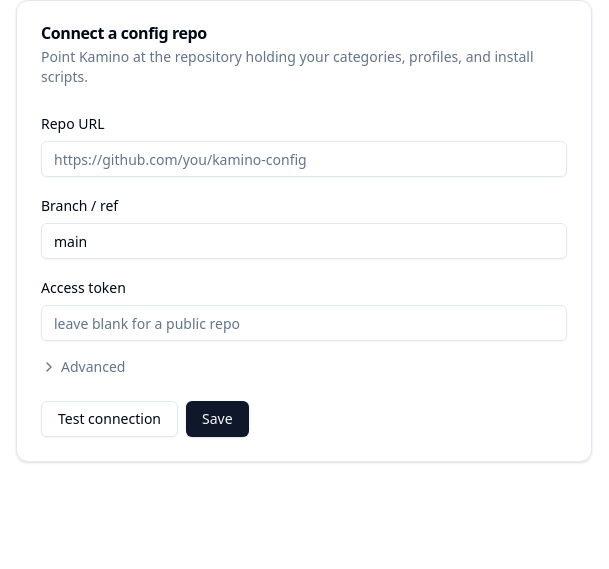
Test: Connect › renders a validation error's details inline
Type "https://github.com/t0mer/bad" into the field labelled "Repo URL" at (304, 159), box x1=41 y1=141 x2=567 y2=177
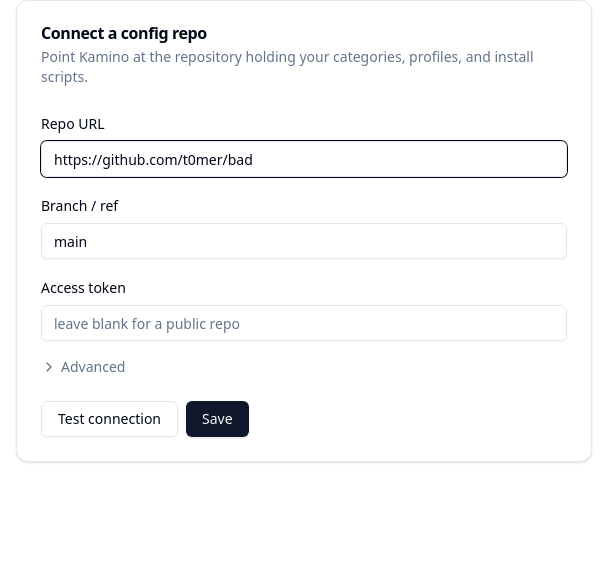
Click the button "Test connection" at (110, 419), box x1=41 y1=401 x2=178 y2=437
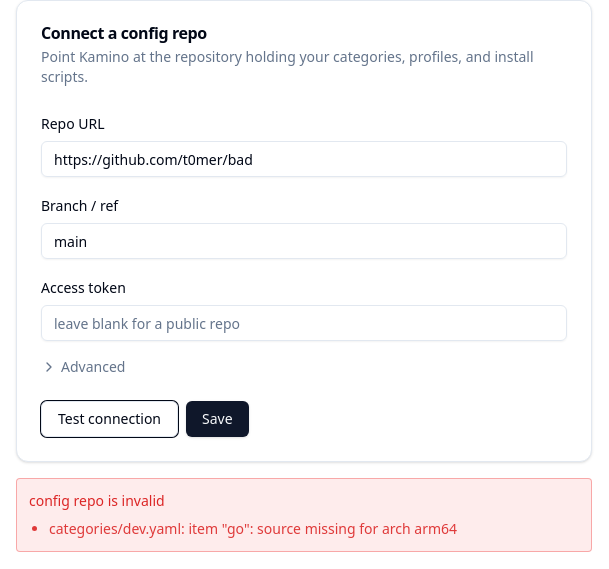
Expected: the list item "source missing for arch arm64" is shown, x1=49 y1=519 x2=457 y2=538
